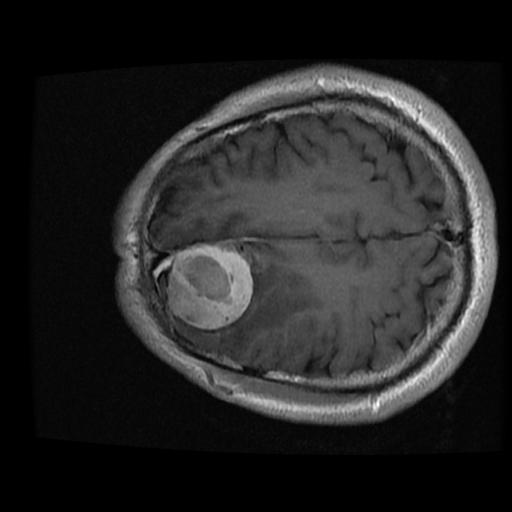meningioma: (165, 245, 252, 329)
